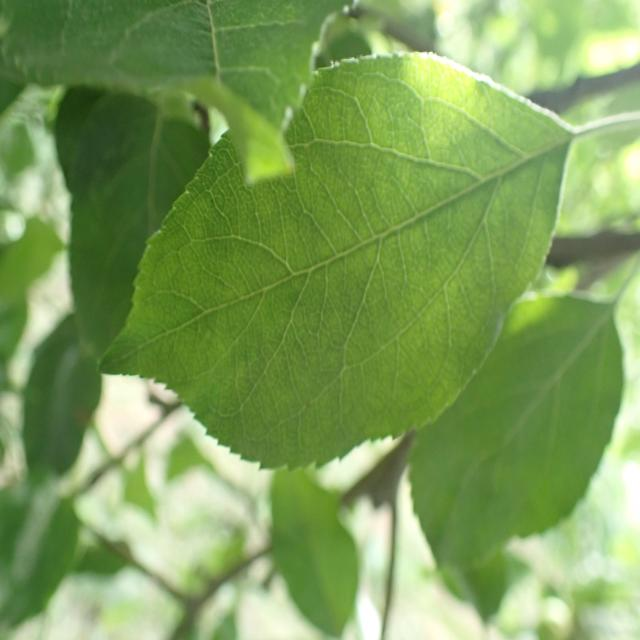healthy: (97, 50, 573, 472), (408, 293, 625, 572), (0, 0, 361, 128), (51, 85, 212, 362)
